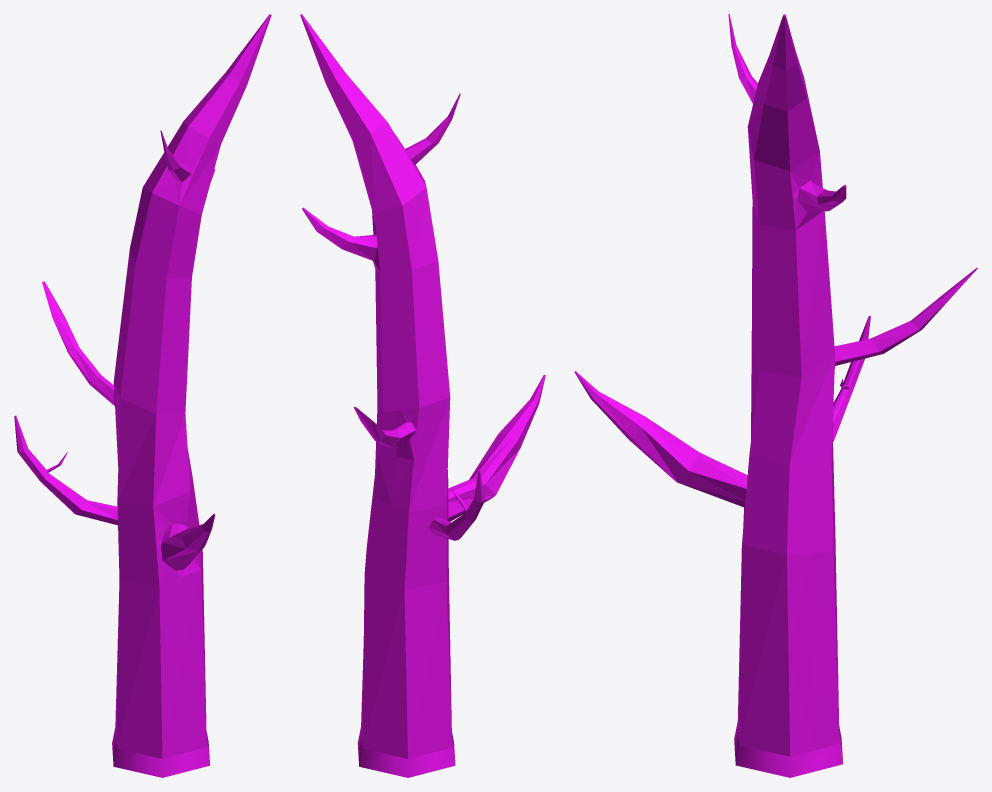
Rendered from TreeModelBB.gltf.
3 views of the same model, side by side, from view 1: azimuth 30°, elevation 25°; view 2: azimuth 150°, elevation 25°; view 3: azimuth 270°, elevation 25° (orthographic). The views are drawn at different scales.
Parts seen in each view (by area): view 1: Cylinder001; view 2: Cylinder001; view 3: Cylinder001.
Part boxes in pixels (x1=…): Cylinder001: x1=14, y1=14, x2=271, y2=777; Cylinder001: x1=300, y1=14, x2=545, y2=777; Cylinder001: x1=574, y1=14, x2=977, y2=777.
Size of the model in its own units: 81.18 by 253 by 116.
